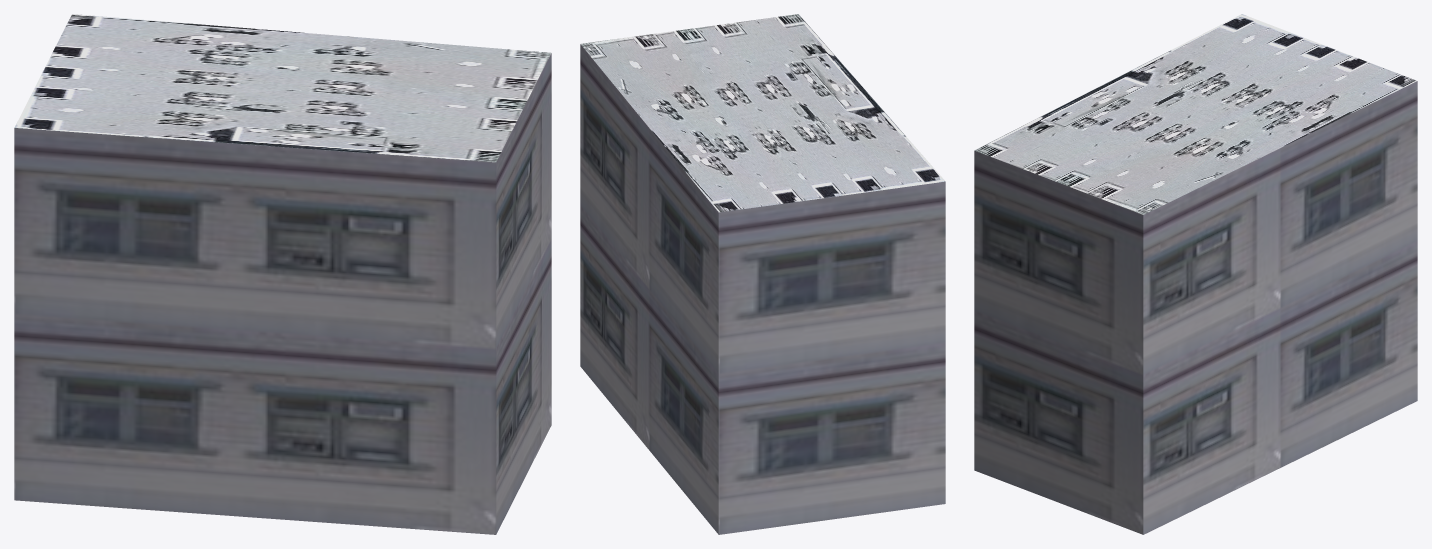
The model's file is ResTex__2352.fbx.
The picture shows the model from 3 angles, left to right: view 1: azimuth 30°, elevation 25°; view 2: azimuth 150°, elevation 25°; view 3: azimuth 270°, elevation 25°; orthographic projection. The views are drawn at different scales.
Parts seen in each view (by area): view 1: CityEngineMaterial_1_m, CityEngineMaterial_8_m; view 2: CityEngineMaterial_1_m, CityEngineMaterial_8_m; view 3: CityEngineMaterial_1_m, CityEngineMaterial_8_m.
Part boxes in pixels (box(x1,y1,x2,y2)): CityEngineMaterial_1_m: box(14, 53, 551, 534); CityEngineMaterial_8_m: box(14, 14, 551, 162); CityEngineMaterial_1_m: box(580, 44, 945, 534); CityEngineMaterial_8_m: box(580, 14, 945, 212); CityEngineMaterial_1_m: box(974, 81, 1417, 534); CityEngineMaterial_8_m: box(974, 14, 1416, 214).
Bounding box in the file's own units: 8.09 × 6 × 7.54.
2 materials, 2 textured.
